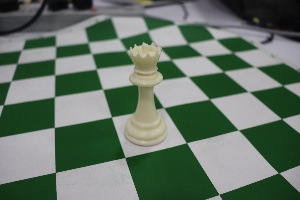white_queen: (114, 31, 171, 150)
